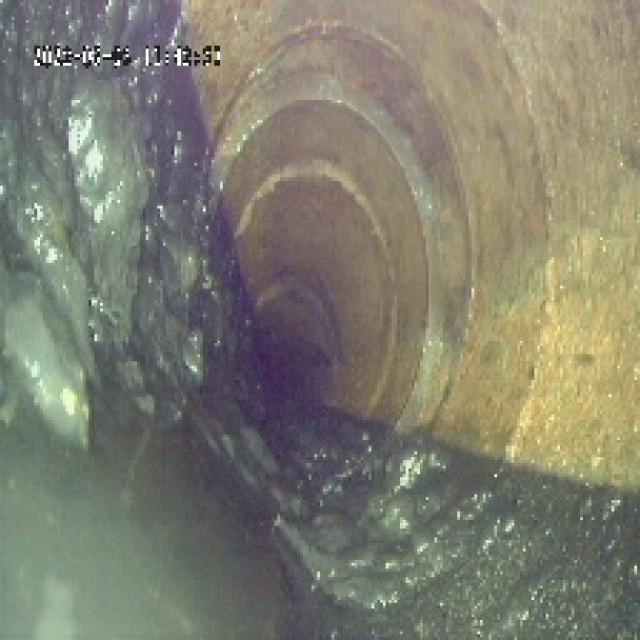sluge accumulation: (48, 86, 486, 620)
